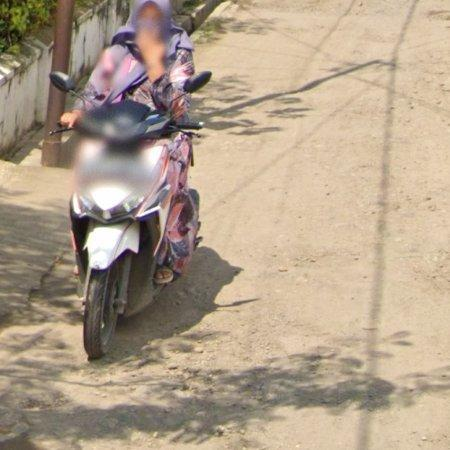motorcycles: (71, 101, 199, 360)
